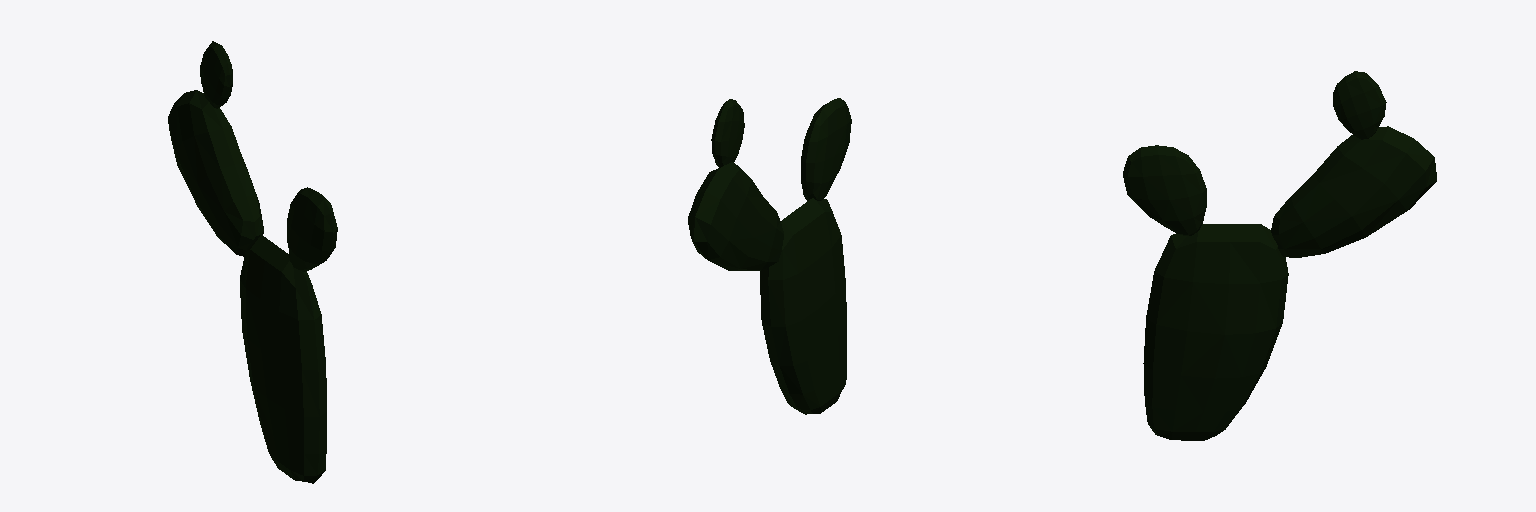
The model's file is Cactus_5.obj.
3 renders of one model, left to right at view 1: azimuth 30°, elevation 25°; view 2: azimuth 150°, elevation 25°; view 3: azimuth 270°, elevation 25°, orthographic.
Visible parts, largest first — view 1: Cactus_5_Cube.034; view 2: Cactus_5_Cube.034; view 3: Cactus_5_Cube.034.
Part boxes in pixels (bbox=[...]): Cactus_5_Cube.034: bbox=[168, 41, 337, 483]; Cactus_5_Cube.034: bbox=[688, 98, 851, 414]; Cactus_5_Cube.034: bbox=[1123, 71, 1436, 440].
Size of the model in its own units: 0.1116 by 0.8812 by 0.6804.